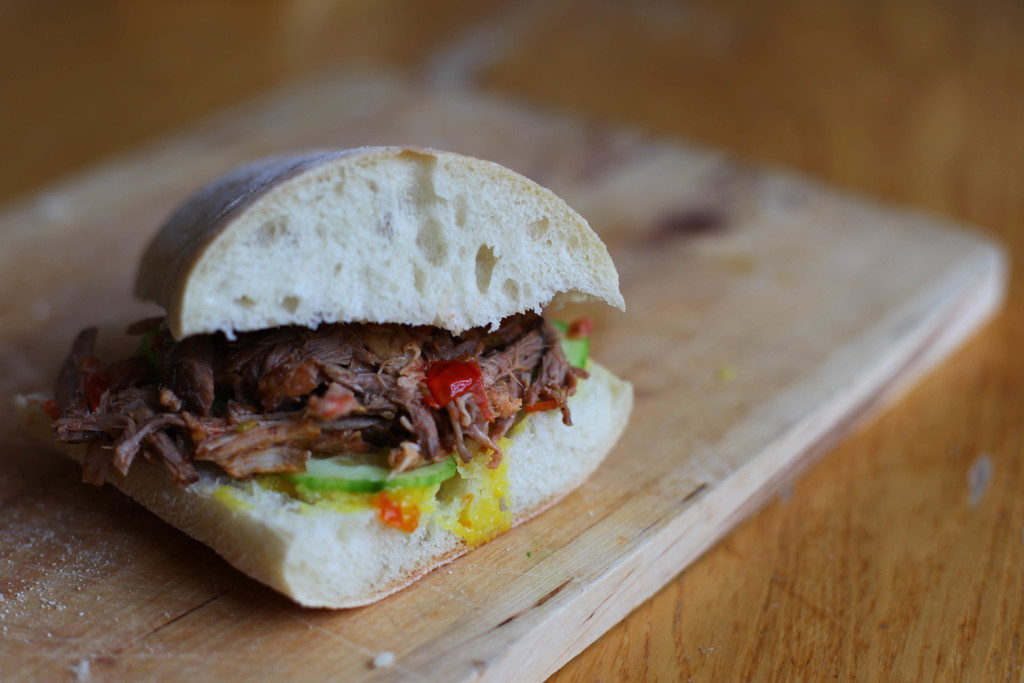sandwich: (1, 143, 637, 607)
